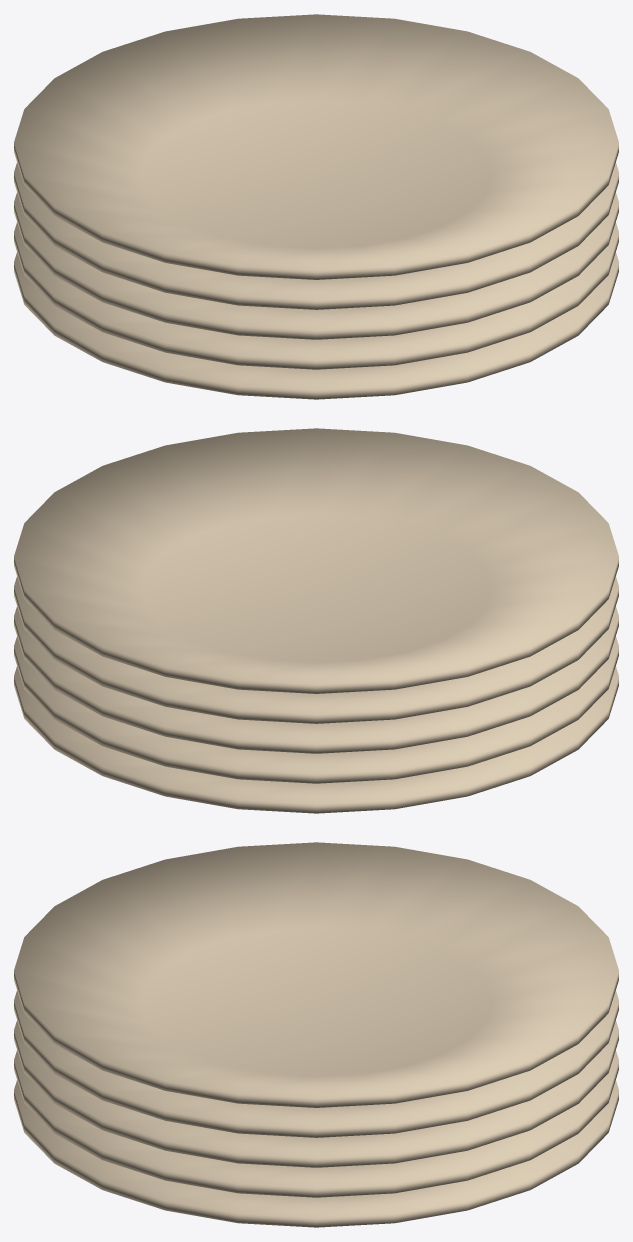
File: i_plates_3.glb
The picture shows the model from 3 angles, top to bottom: view 1: azimuth 30°, elevation 25°; view 2: azimuth 150°, elevation 25°; view 3: azimuth 270°, elevation 25°; orthographic projection.
Visible parts, largest first — view 1: o.004, o.001, o, o.002, o.003; view 2: o.004, o.001, o, o.002, o.003; view 3: o.004, o.001, o, o.002, o.003.
Part boxes in pixels (x1,y1,x2,y2): o.004: [14, 14, 618, 279]; o.001: [14, 222, 618, 369]; o: [14, 252, 618, 399]; o.002: [14, 192, 618, 339]; o.003: [14, 162, 618, 309]; o.004: [14, 428, 618, 693]; o.001: [14, 636, 618, 783]; o: [14, 666, 618, 813]; o.002: [14, 606, 618, 753]; o.003: [14, 576, 618, 723]; o.004: [14, 842, 618, 1107]; o.001: [14, 1050, 618, 1197]; o: [14, 1080, 618, 1227]; o.002: [14, 1020, 618, 1167]; o.003: [14, 990, 618, 1137].
Size of the model in its own units: 0.22 by 0.07 by 0.22.
